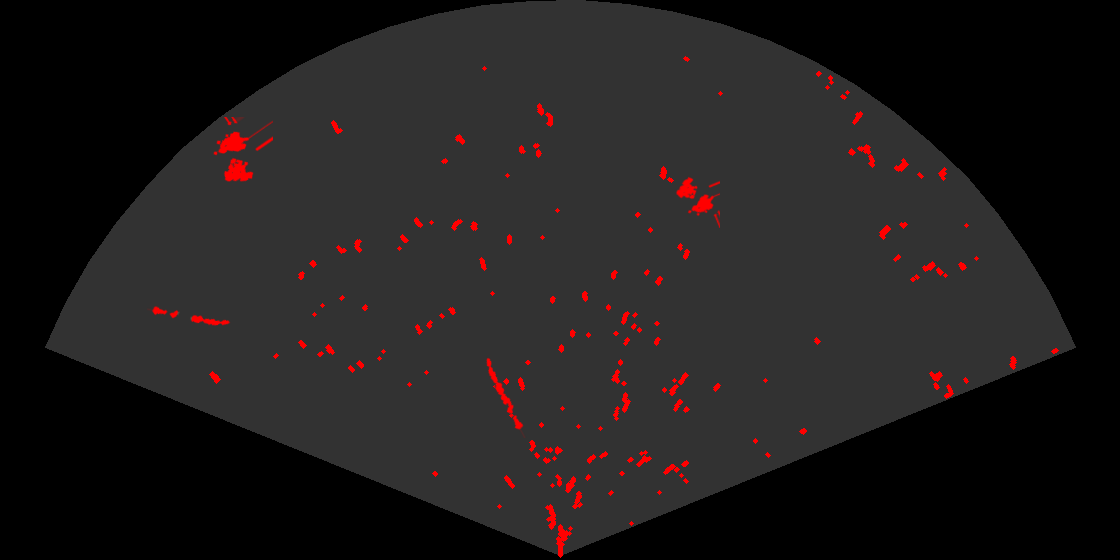cage: (212, 117, 273, 183), (674, 175, 720, 228)
chain: (485, 356, 527, 438), (147, 305, 231, 327)
